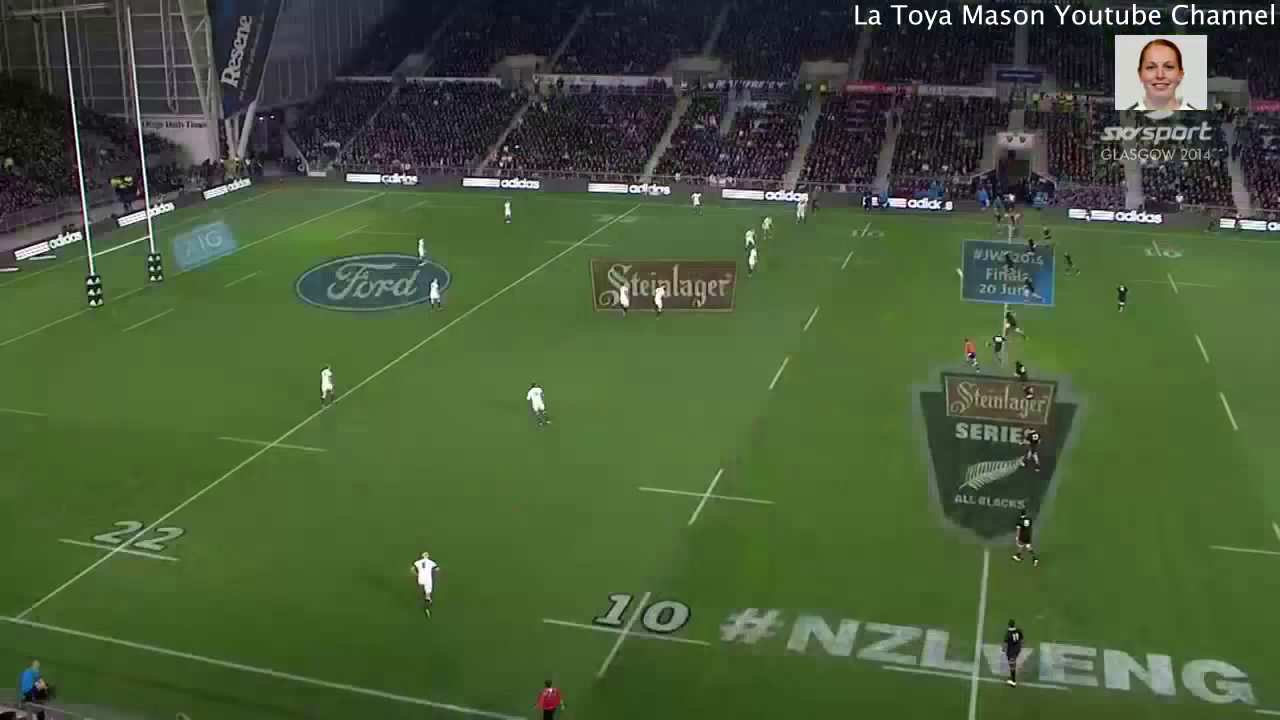10_metre: (538, 581, 715, 682), (634, 461, 784, 540), (1208, 515, 1280, 561), (1129, 268, 1229, 298), (818, 244, 881, 276), (1119, 237, 1192, 263), (839, 219, 900, 244)
ball: (951, 263, 966, 282)
player: (403, 546, 450, 618), (517, 377, 556, 430), (996, 613, 1023, 688), (1013, 507, 1042, 568), (314, 358, 340, 409), (1010, 357, 1036, 400), (1022, 426, 1043, 476), (1002, 307, 1028, 342), (425, 274, 444, 316), (1020, 275, 1046, 305), (497, 194, 520, 227), (982, 329, 1005, 361), (413, 228, 432, 265), (1060, 250, 1080, 281), (615, 281, 632, 317), (651, 285, 668, 320), (757, 214, 777, 243), (1113, 279, 1129, 313), (747, 247, 764, 277), (792, 197, 808, 226), (688, 187, 703, 217), (739, 228, 757, 253), (998, 248, 1012, 274), (1023, 236, 1039, 257), (1042, 224, 1055, 248)
post: (68, 144, 168, 315)
